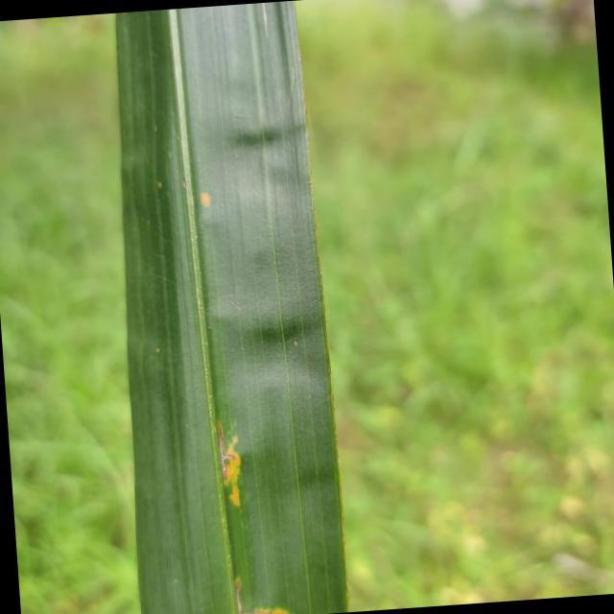Boron: (113, 1, 345, 614)
